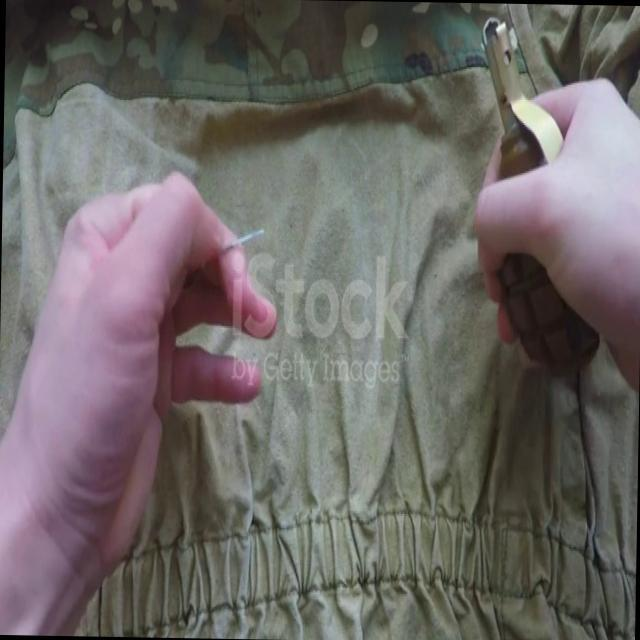grenade: (481, 11, 606, 367)
